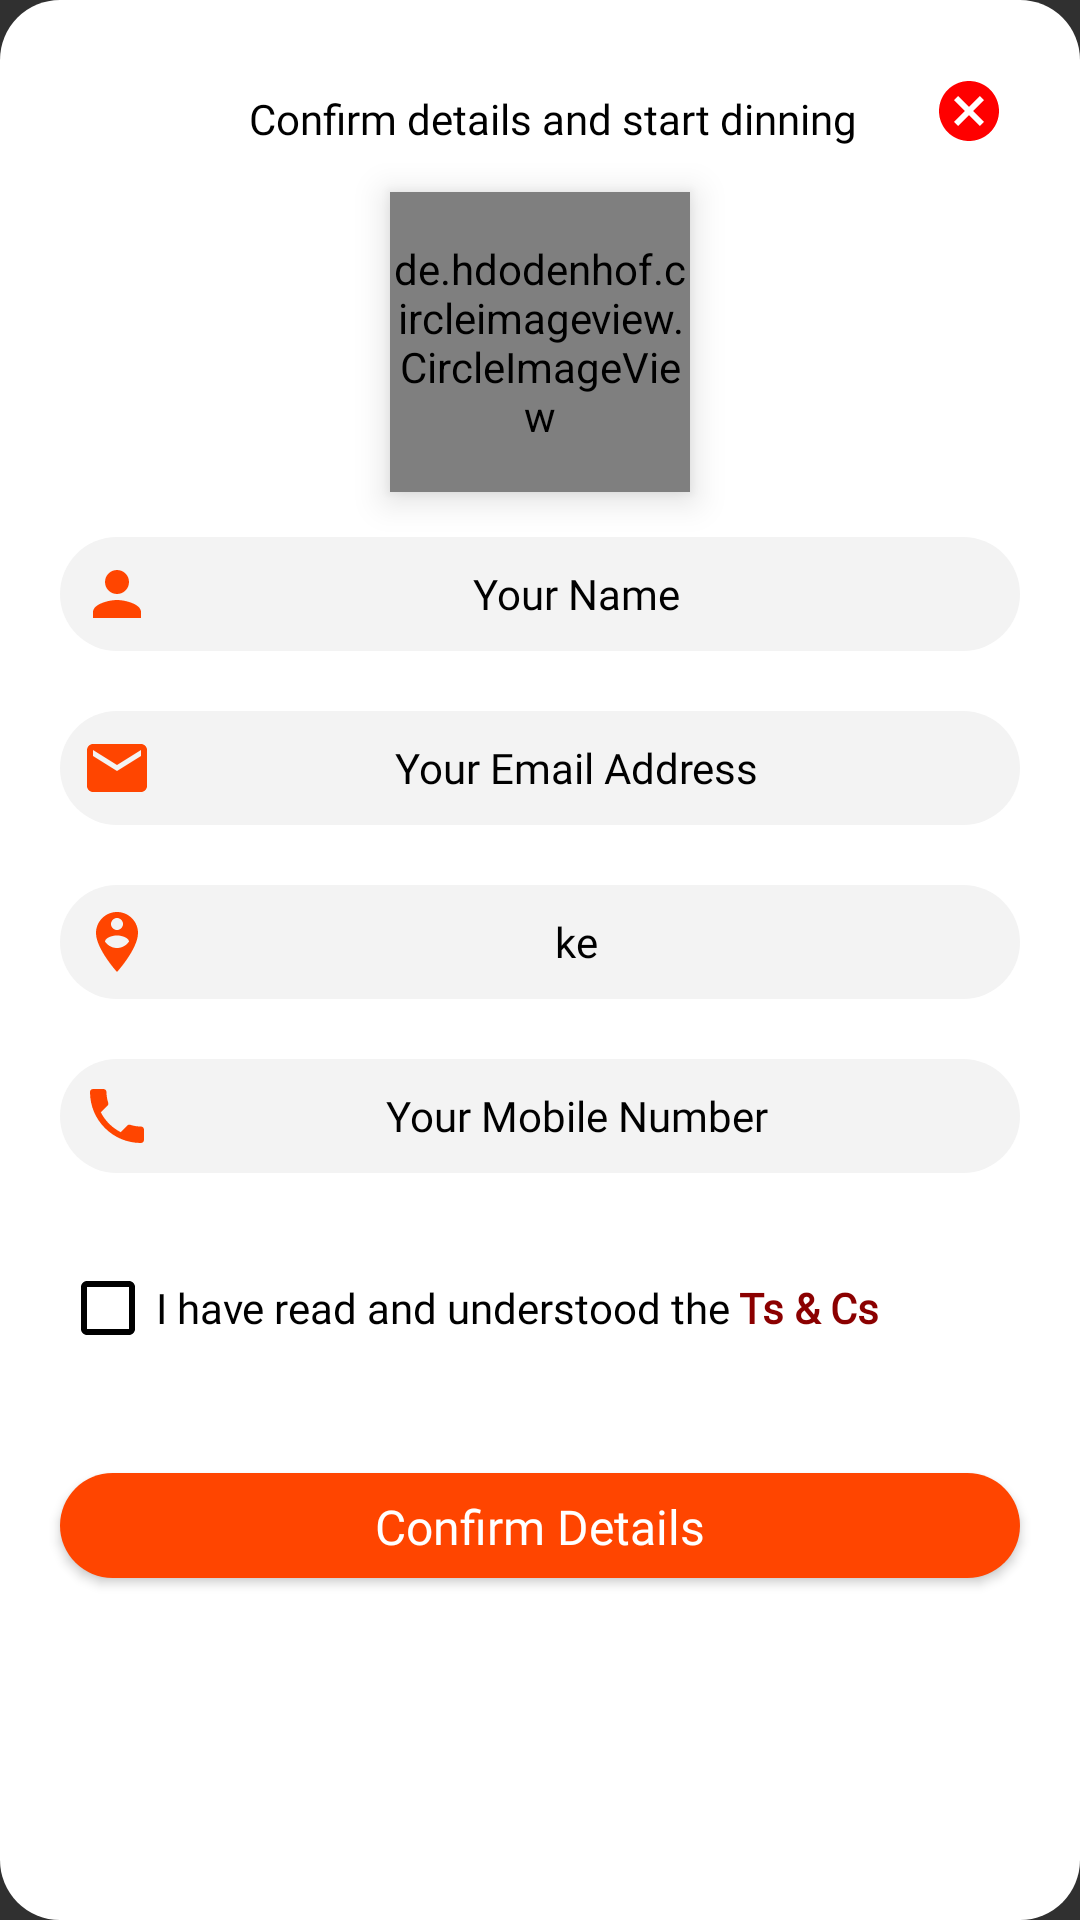

Screen size 1080*1920. Icon name, then its box in pixels as (x1, y1, x2, y2):
cancel: (939, 81, 999, 141)
